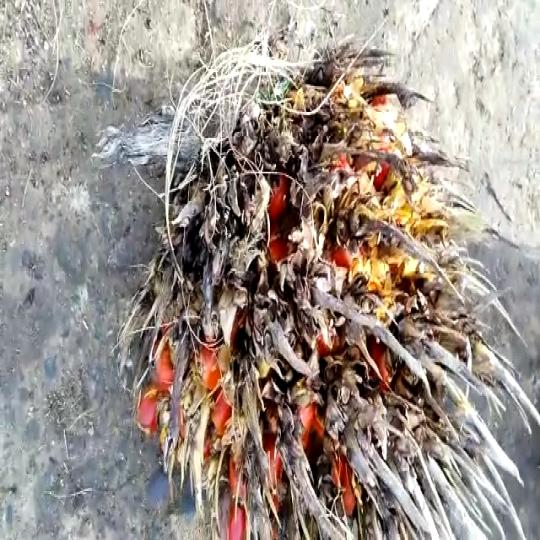terlalu masak: (106, 21, 532, 540)
